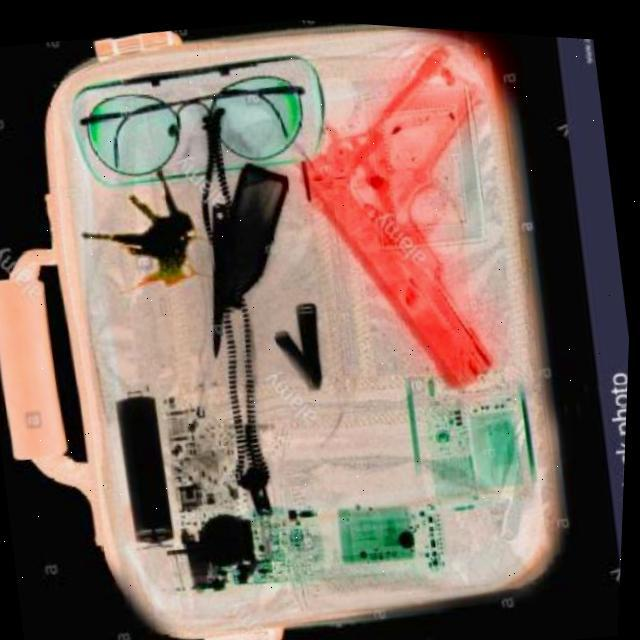gun: (270, 16, 524, 399)
